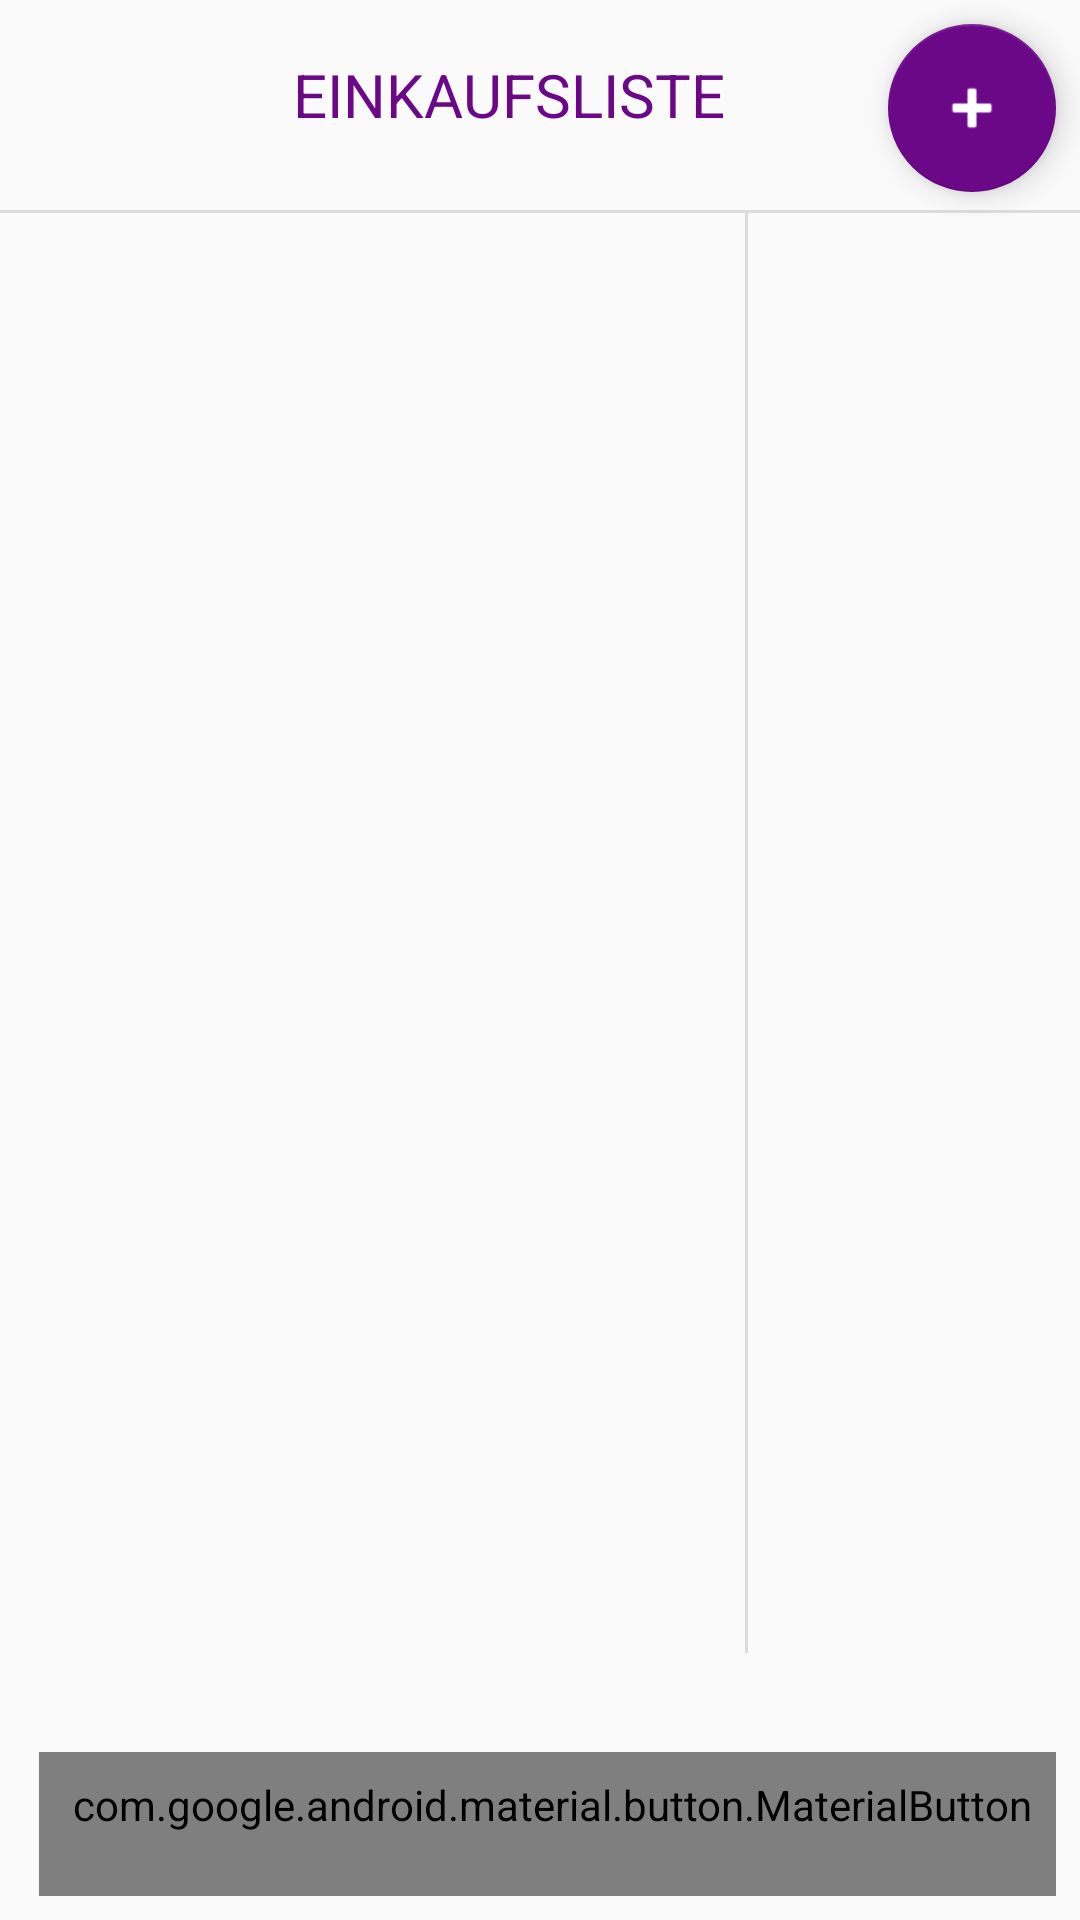

Icon bounding boxes for this 1080 x 1920 phone screenshot, format (x1, y1, x2, y2):
add: (888, 24, 1056, 192)
